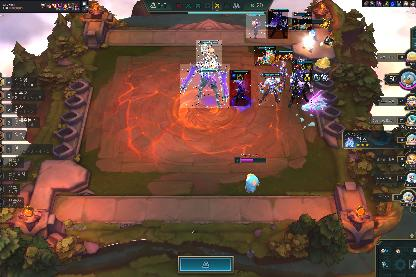1_pantheon: (268, 9, 288, 39)
1_seraphine: (254, 46, 276, 66), (292, 12, 312, 30)
1_yasuo: (229, 70, 251, 106)
1_zyra: (246, 14, 266, 38)
2_jayce: (196, 40, 222, 66)
2_pantheon: (292, 60, 312, 104)
2_syfen: (180, 64, 230, 108)
2_sylas: (258, 72, 282, 106)
2_zyra: (274, 50, 292, 88)
